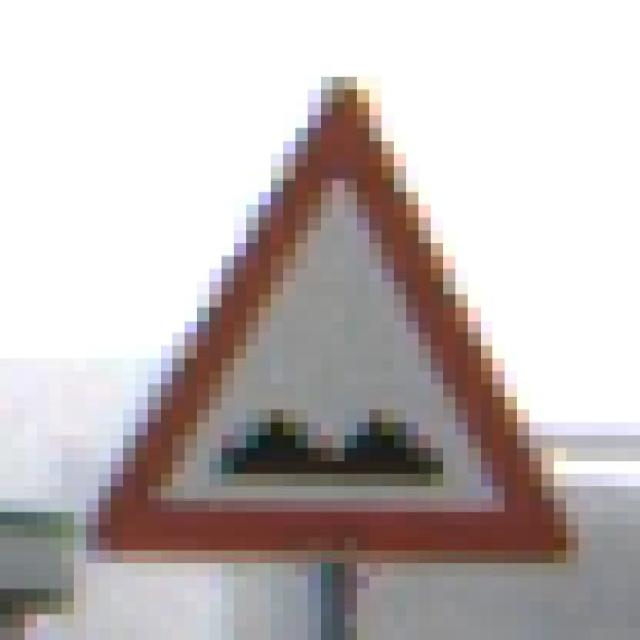Uneven Road: (88, 63, 581, 575)
